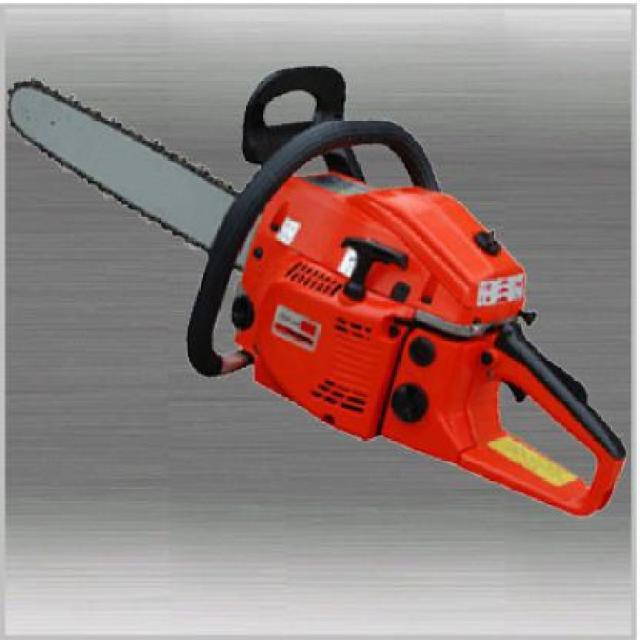Chainsaw: (11, 64, 626, 518)
